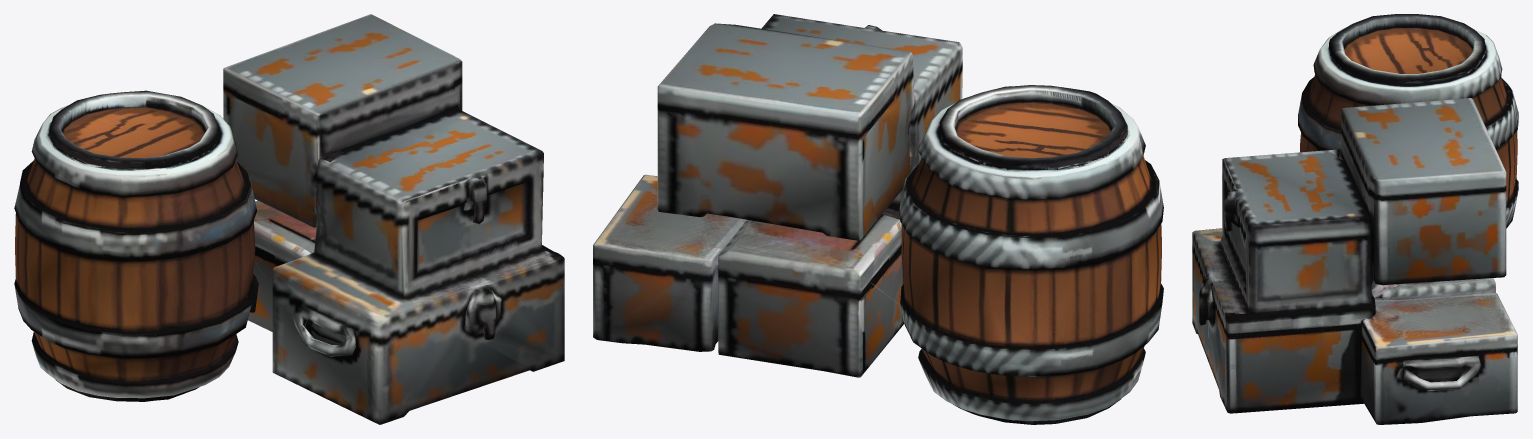
The model's file is Barrels_and_Crates.glb.
3 views of the same model, side by side, from view 1: azimuth 30°, elevation 25°; view 2: azimuth 150°, elevation 25°; view 3: azimuth 270°, elevation 25° (orthographic). The views are drawn at different scales.
Size of the model in its own units: 1.9 by 0.9354 by 1.23.
Materials: 1 (1 with a texture image).
